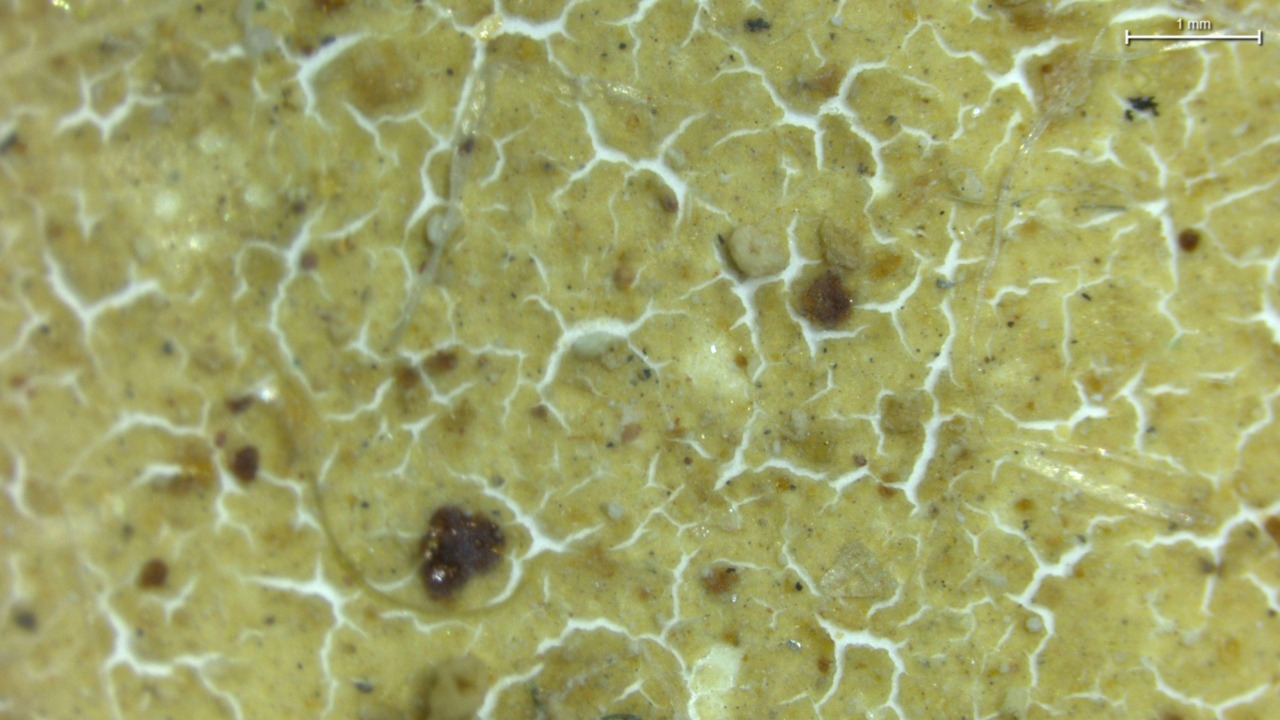microplastic_fragment: (725, 224, 788, 282)
